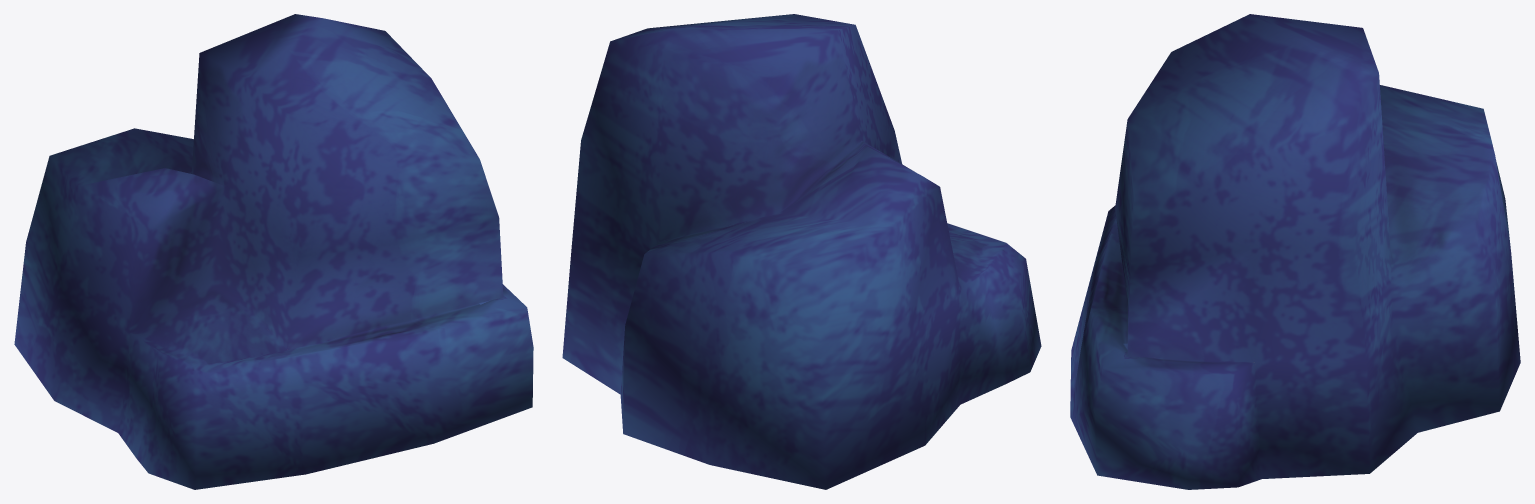
The model's file is roca3.FBX.
3 renders of one model, left to right at view 1: azimuth 30°, elevation 25°; view 2: azimuth 150°, elevation 25°; view 3: azimuth 270°, elevation 25°, orthographic. The views are drawn at different scales.
Visible parts, largest first — view 1: Roca3; view 2: Roca3; view 3: Roca3.
Part boxes in pixels (bbox=[...]): Roca3: bbox=[14, 14, 533, 489]; Roca3: bbox=[562, 14, 1041, 489]; Roca3: bbox=[1070, 14, 1520, 489].
Bounding box in the file's own units: 96.99 × 91.94 × 79.71.
